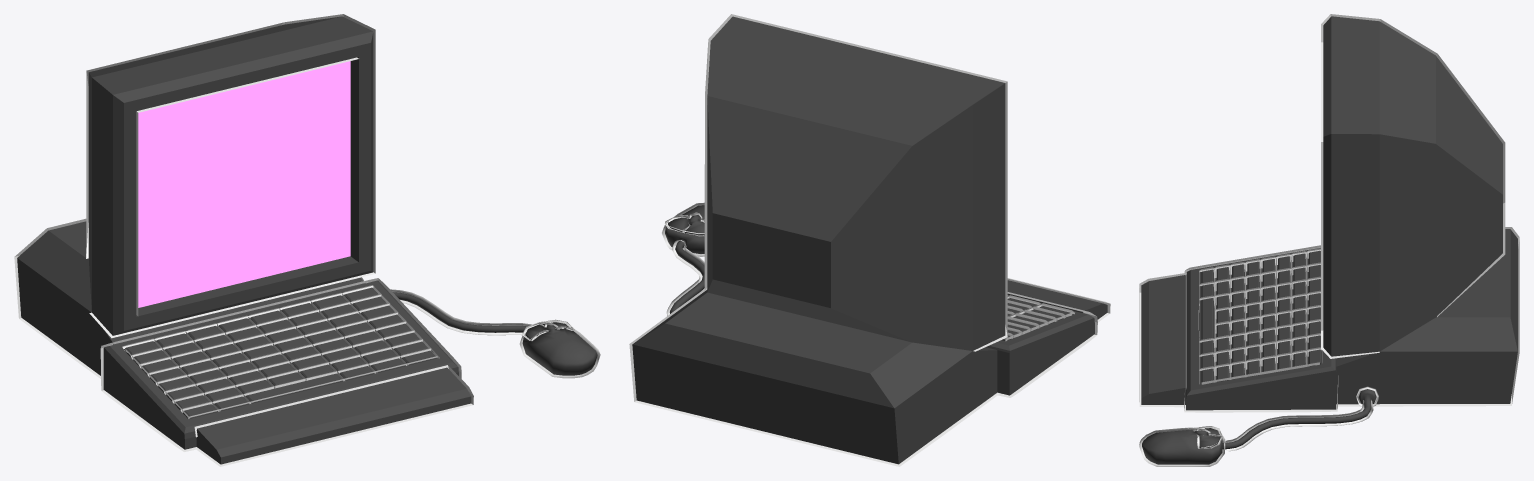
File: computeroutline.glb
3 views of the same model, side by side, from view 1: azimuth 30°, elevation 25°; view 2: azimuth 150°, elevation 25°; view 3: azimuth 270°, elevation 25° (orthographic). The views are drawn at different scales.
Visible parts, largest first — view 1: Cube001, Cube001_2, Cube001_1; view 2: Cube001, Cube001_1; view 3: Cube001, Cube001_1.
Part boxes in pixels (<box>): Cube001: <box>17,16,597,464</box>; Cube001_2: <box>138,61,350,307</box>; Cube001_1: <box>14,14,600,466</box>; Cube001: <box>632,16,1107,464</box>; Cube001_1: <box>629,14,1110,466</box>; Cube001: <box>1141,16,1517,464</box>; Cube001_1: <box>1139,14,1519,466</box>.
Bounding box in the file's own units: 11.77 × 8.39 × 10.45.
